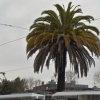Tree: (27, 5, 98, 86)
